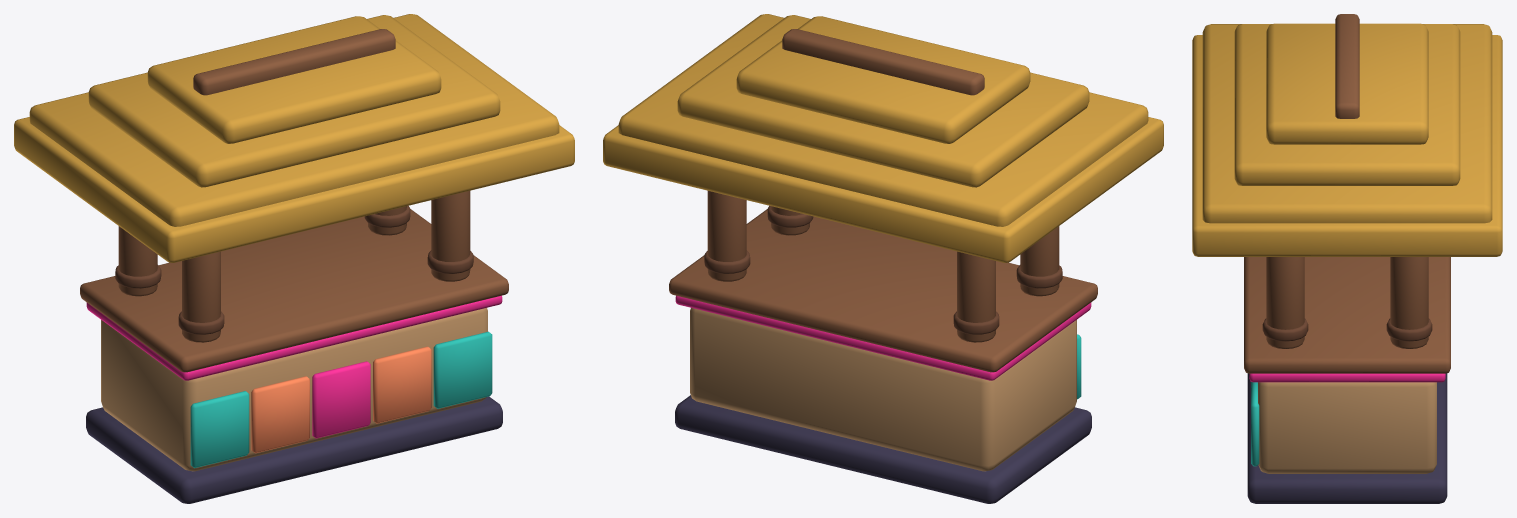
The model's file is Beach_TikiBar.fbx.
3 renders of one model, left to right at view 1: azimuth 30°, elevation 25°; view 2: azimuth 150°, elevation 25°; view 3: azimuth 270°, elevation 25°, orthographic.
Visible parts, largest first — view 1: Straw, Wood, Woodlight, Body, Turq, Coral, Magenta, Neon_Magenta, Wooddark; view 2: Straw, Wood, Woodlight, Body, Neon_Magenta, Wooddark; view 3: Straw, Wood, Woodlight, Body, Neon_Magenta, Wooddark, Turq.
Part boxes in pixels (left/top/right/bottom): Straw: left=14, top=14, right=574, bottom=262; Wood: left=80, top=29, right=508, bottom=372; Woodlight: left=101, top=308, right=487, bottom=471; Body: left=86, top=396, right=502, bottom=503; Turq: left=190, top=331, right=492, bottom=468; Coral: left=251, top=346, right=431, bottom=453; Magenta: left=312, top=361, right=370, bottom=438; Neon_Magenta: left=86, top=295, right=502, bottom=380; Wooddark: left=115, top=205, right=473, bottom=334; Straw: left=603, top=14, right=1163, bottom=262; Wood: left=669, top=29, right=1097, bottom=372; Woodlight: left=690, top=308, right=1076, bottom=471; Body: left=675, top=395, right=1091, bottom=503; Neon_Magenta: left=675, top=295, right=1091, bottom=380; Wooddark: left=704, top=205, right=1062, bottom=334; Straw: left=1192, top=23, right=1502, bottom=256; Wood: left=1244, top=14, right=1450, bottom=373; Woodlight: left=1258, top=382, right=1436, bottom=473; Body: left=1247, top=373, right=1447, bottom=503; Neon_Magenta: left=1249, top=373, right=1445, bottom=382; Wooddark: left=1262, top=318, right=1432, bottom=341; Turq: left=1251, top=382, right=1259, bottom=466.
Size of the model in its own units: 9.38 by 8.33 by 6.3.
